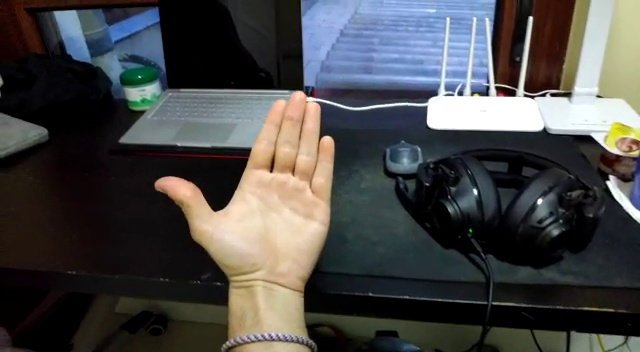Palm: (154, 90, 338, 302)
